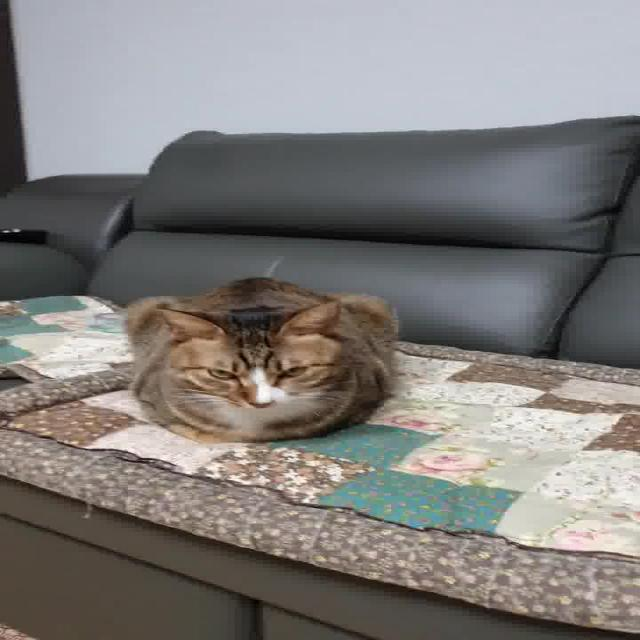cat: (97, 272, 420, 453)
